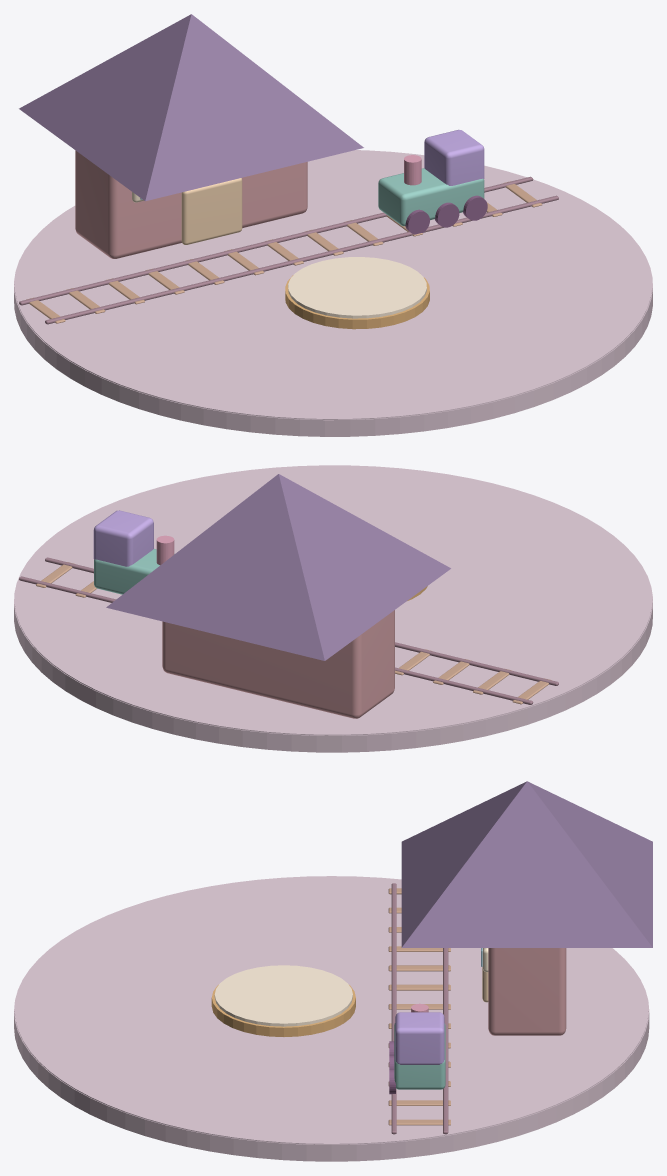
File: estacao.glb
3 views of the same model, one above another, from view 1: azimuth 30°, elevation 25°; view 2: azimuth 150°, elevation 25°; view 3: azimuth 270°, elevation 25° (orthographic).
Parts seen in each view (by area): view 1: Diorama piping.016, Gabled roof.002, Diorama base.016, Train station, Look pedestal.016, Front door.002, Toy locomotive, Engine cab, Rail, Rail.001, Look pedestal trim.016; view 2: Diorama piping.016, Gabled roof.002, Train station, Diorama base.016, Engine cab, Toy locomotive, Rail.001, Rail, Chimney; view 3: Diorama piping.016, Gabled roof.002, Diorama base.016, Train station, Look pedestal.016, Engine cab, Look pedestal trim.016, Toy locomotive, Rail, Rail.001.
Part boxes in pixels (left/top/right/bottom): Diorama piping.016: left=14, top=150, right=652, bottom=419; Gabled roof.002: left=19, top=14, right=363, bottom=201; Diorama base.016: left=14, top=238, right=652, bottom=436; Train station: left=75, top=150, right=307, bottom=258; Look pedestal.016: left=288, top=257, right=426, bottom=318; Front door.002: left=181, top=178, right=242, bottom=244; Toy locomotive: left=378, top=168, right=484, bottom=226; Engine cab: left=424, top=129, right=484, bottom=185; Rail: left=45, top=195, right=558, bottom=324; Rail.001: left=19, top=176, right=533, bottom=305; Look pedestal trim.016: left=285, top=275, right=429, bottom=329; Diorama piping.016: left=14, top=465, right=652, bottom=735; Gabled roof.002: left=106, top=474, right=450, bottom=660; Train station: left=162, top=610, right=394, bottom=718; Diorama base.016: left=14, top=554, right=652, bottom=752; Engine cab: left=93, top=510, right=153, bottom=566; Toy locomotive: left=94, top=549, right=174, bottom=594; Rail.001: left=19, top=576, right=533, bottom=704; Rail: left=45, top=557, right=558, bottom=685; Chimney: left=156, top=535, right=174, bottom=565; Diorama piping.016: left=14, top=876, right=648, bottom=1144; Gabled roof.002: left=401, top=781, right=652, bottom=947; Diorama base.016: left=14, top=969, right=649, bottom=1161; Train station: left=488, top=948, right=566, bottom=1035; Look pedestal.016: left=214, top=965, right=352, bottom=1026; Engine cab: left=395, top=1012, right=444, bottom=1064; Look pedestal trim.016: left=211, top=984, right=355, bottom=1036; Toy locomotive: left=394, top=1023, right=445, bottom=1089; Rail: left=391, top=883, right=396, bottom=1134; Rail.001: left=443, top=948, right=448, bottom=1134.
Size of what is drawn, in the model's own units: 8.64 by 3.38 by 8.69.
